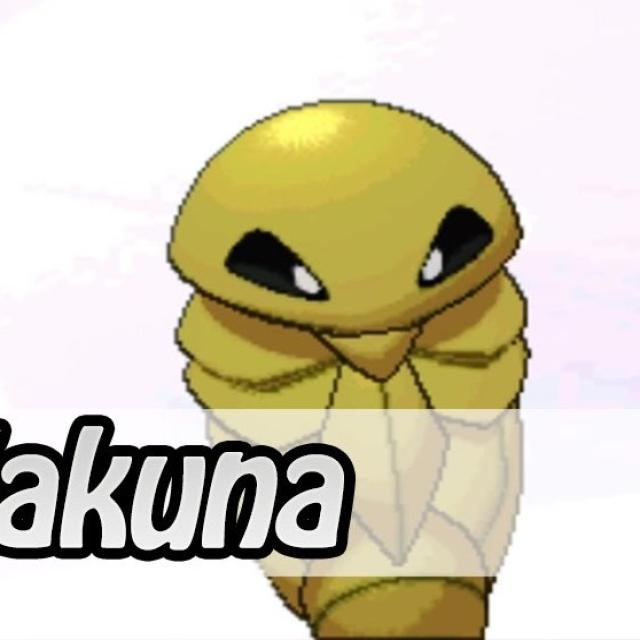Kakuna: (158, 94, 551, 639)
